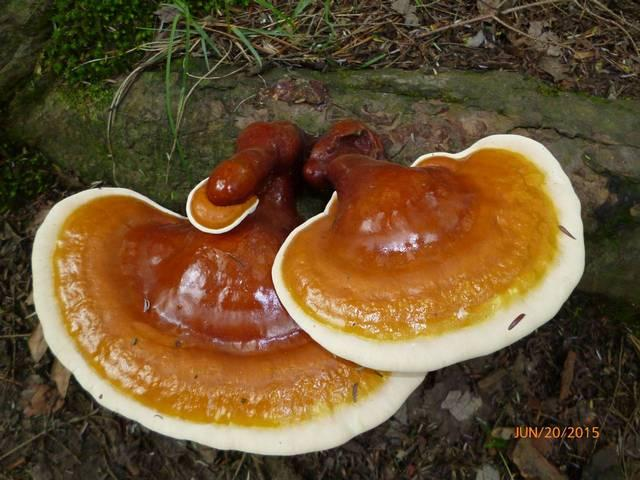poisonous_mushroom: (23, 127, 419, 441), (271, 131, 586, 373)
